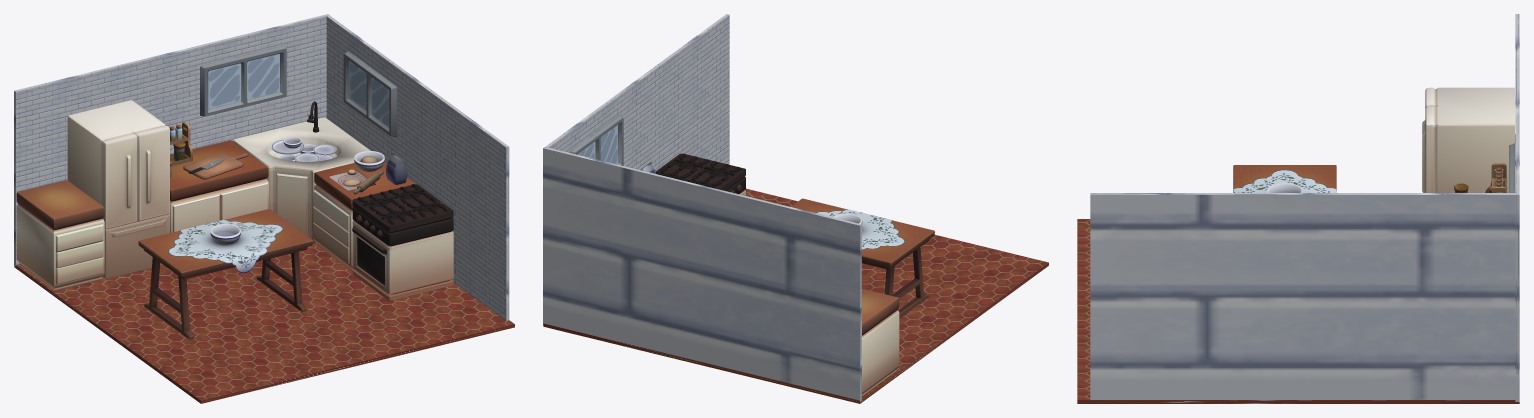
Rendered from kitchen 01.fbx.
The picture shows the model from 3 angles, left to right: view 1: azimuth 30°, elevation 25°; view 2: azimuth 150°, elevation 25°; view 3: azimuth 270°, elevation 25°; orthographic projection. The views are drawn at different scales.
Visible parts, largest first — view 1: floor 01, wall 01, wall 02, fridge 01, stove 01, counter 01, sink 01, table 01, counter 02, window 01, counter 03, tablecloth 01 (+6 smaller); view 2: wall 01, wall 02, floor 01, counter 01, table 01, stove 01, window 02, tablecloth 01; view 3: wall 02, fridge 01, floor 01, wall 01, table 01, tablecloth 01.
Part boxes in pixels (x1=…): floor 01: x1=14, y1=243, x2=514, y2=403; wall 01: x1=14, y1=14, x2=329, y2=266; wall 02: x1=326, y1=15, x2=509, y2=320; fridge 01: x1=67, y1=100, x2=169, y2=278; stove 01: x1=352, y1=184, x2=453, y2=300; counter 01: x1=16, y1=180, x2=104, y2=291; sink 01: x1=233, y1=101, x2=370, y2=243; table 01: x1=138, y1=209, x2=312, y2=339; counter 02: x1=169, y1=140, x2=268, y2=232; window 01: x1=200, y1=45, x2=286, y2=116; counter 03: x1=313, y1=161, x2=415, y2=271; tablecloth 01: x1=168, y1=219, x2=283, y2=273; wall 01: x1=543, y1=147, x2=861, y2=401; wall 02: x1=545, y1=14, x2=729, y2=171; floor 01: x1=543, y1=188, x2=1048, y2=403; counter 01: x1=862, y1=288, x2=899, y2=396; table 01: x1=791, y1=198, x2=934, y2=318; stove 01: x1=655, y1=153, x2=745, y2=195; window 02: x1=569, y1=115, x2=623, y2=165; tablecloth 01: x1=816, y1=209, x2=905, y2=249; wall 02: x1=1090, y1=193, x2=1515, y2=399; fridge 01: x1=1422, y1=87, x2=1514, y2=192; floor 01: x1=1077, y1=219, x2=1519, y2=403; wall 01: x1=1515, y1=14, x2=1519, y2=401; table 01: x1=1233, y1=165, x2=1336, y2=188; tablecloth 01: x1=1233, y1=169, x2=1336, y2=192.
Size of the model in its own units: 6127 by 3297 by 6319.
